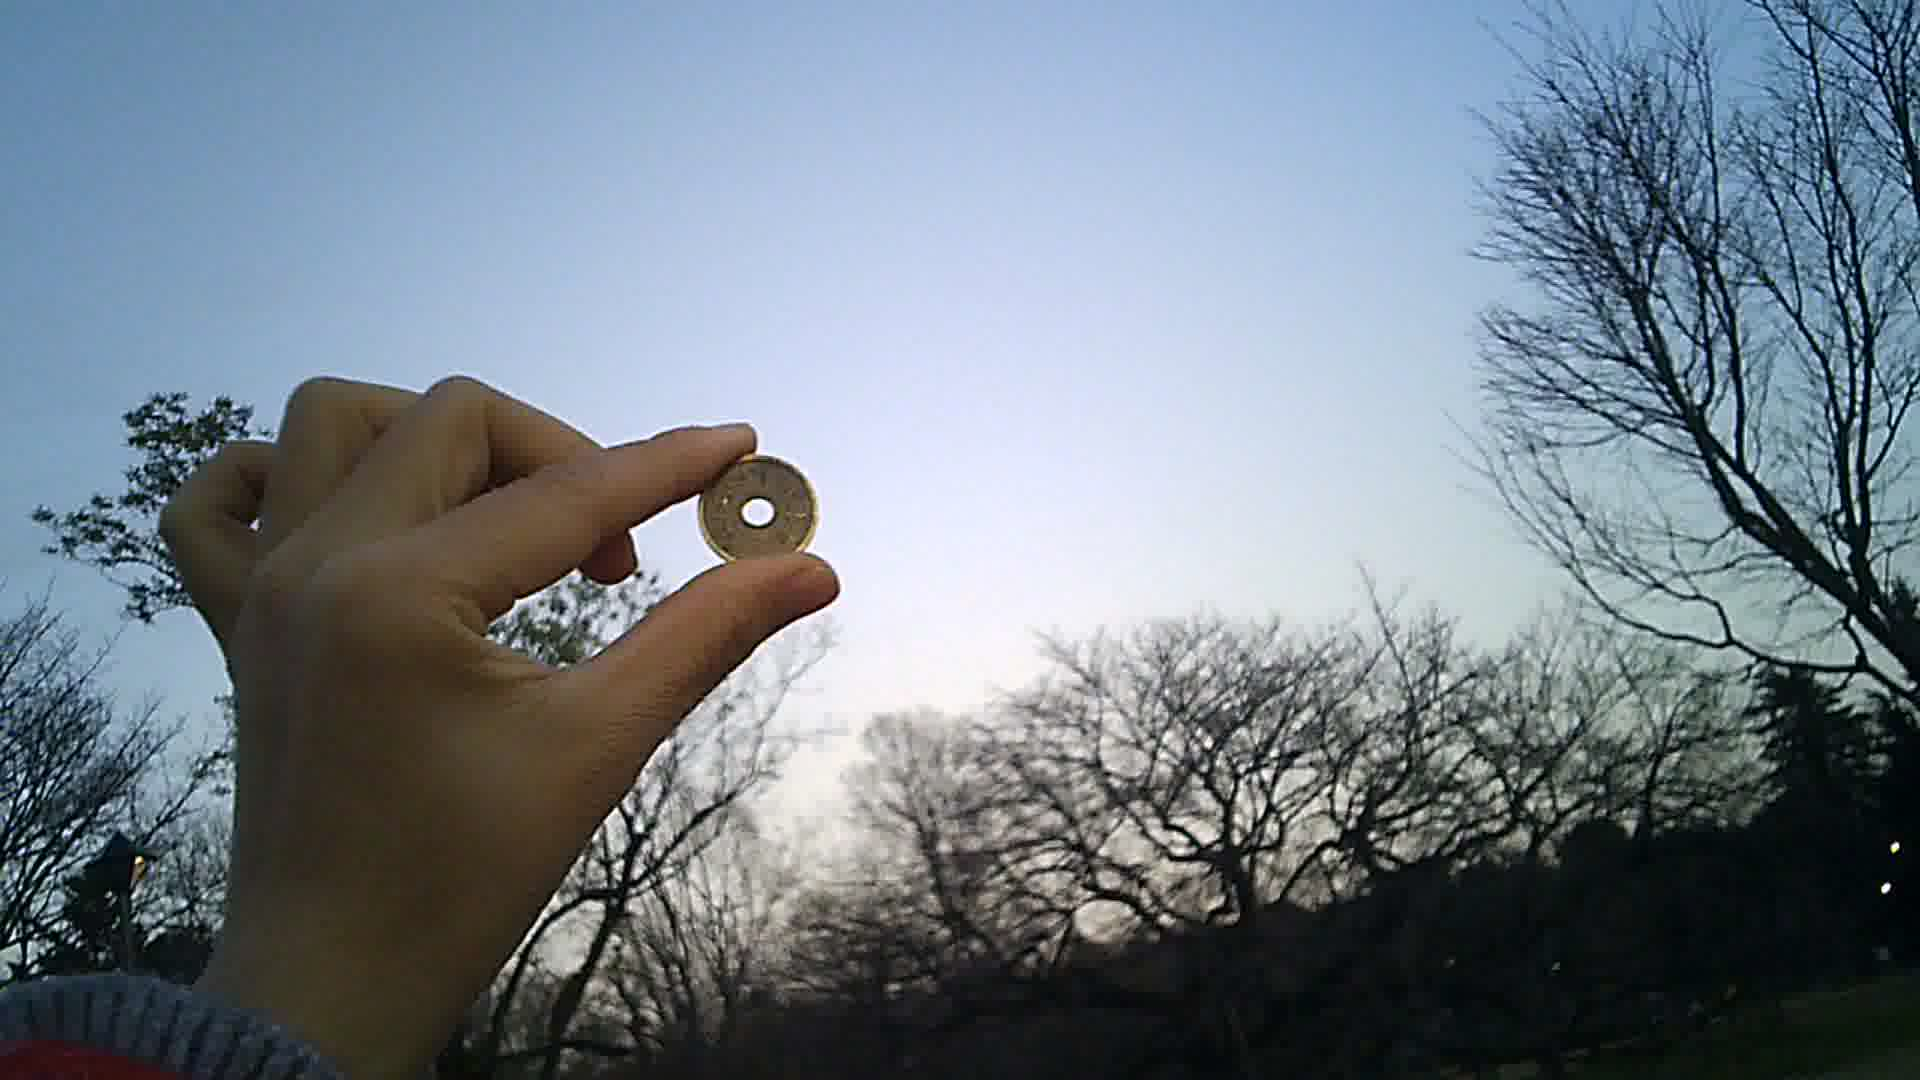5 Yen: (696, 451, 818, 560)
